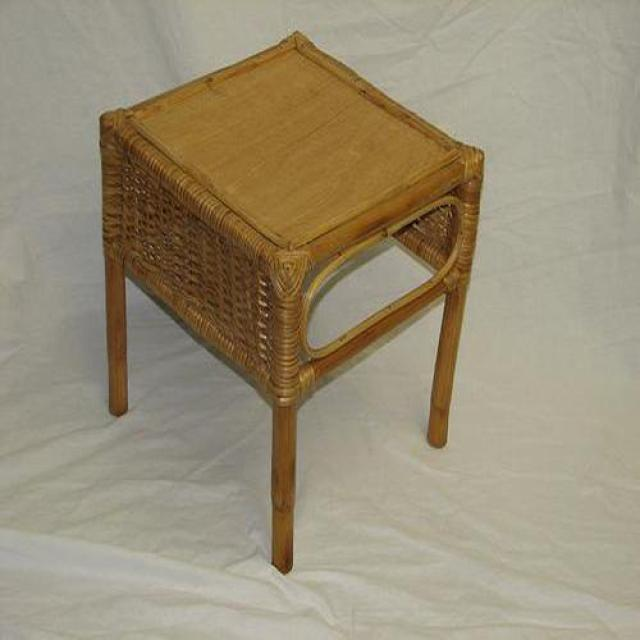table: (100, 32, 485, 576)
